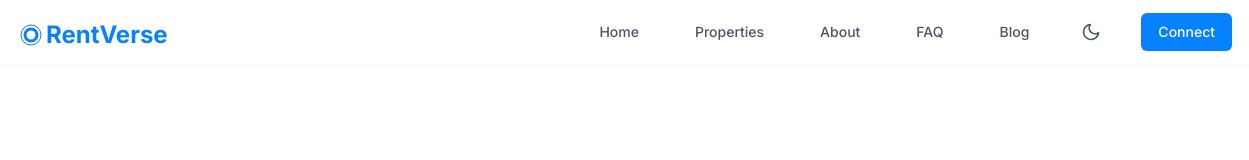
Test: shows wallet error 4001 and allows retry
Click the button "Connect". click: (1187, 32)
box: [1141,13,1232,51]
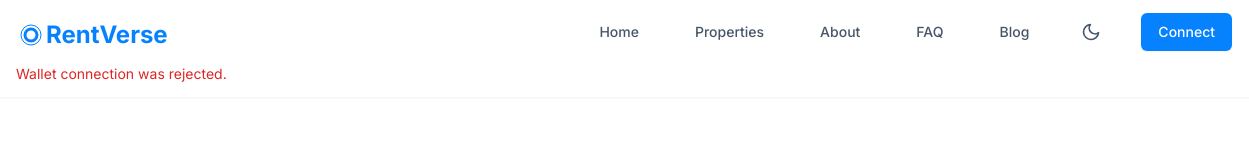
Expected: the message shows "rejected", [16,65,227,82]
